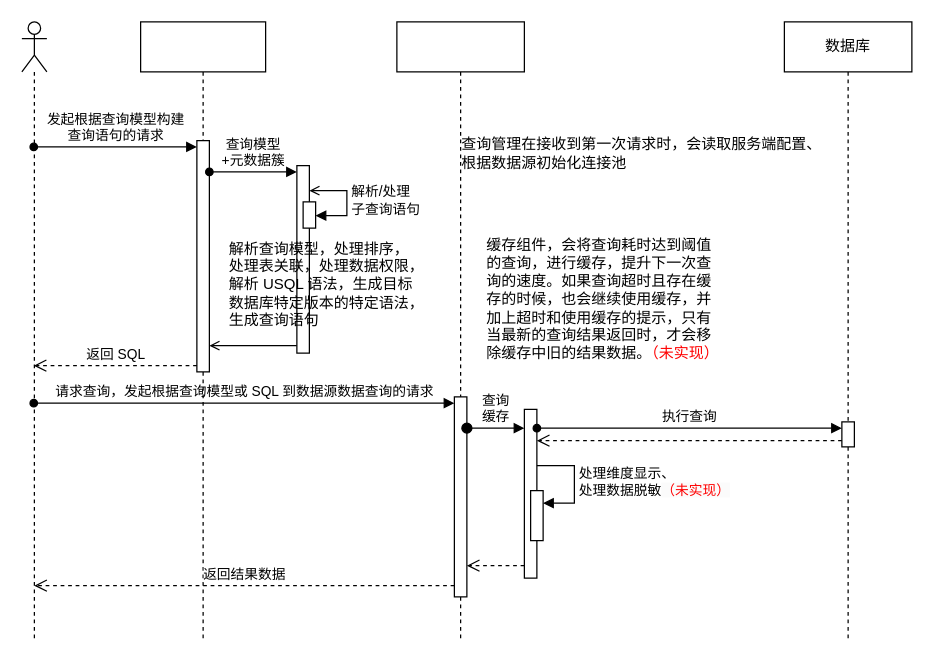
Some shapes in this 934 by 663 pixel diagram are drawn without their labels. The shapes that lost their labels are listed below. From the top down, each one's box as (x1, y1, x2, y2) in pixels, then its label:
(139, 21, 266, 641): DSL 生成
(396, 21, 524, 641): 查询
